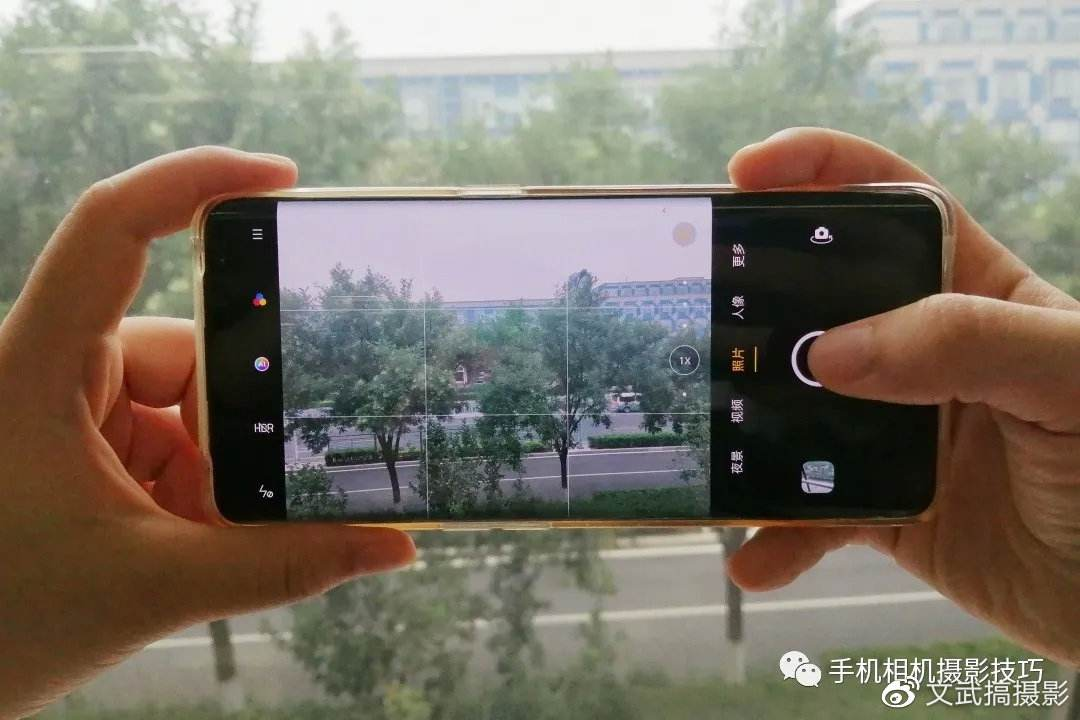taking photos: (6, 102, 1079, 667)
